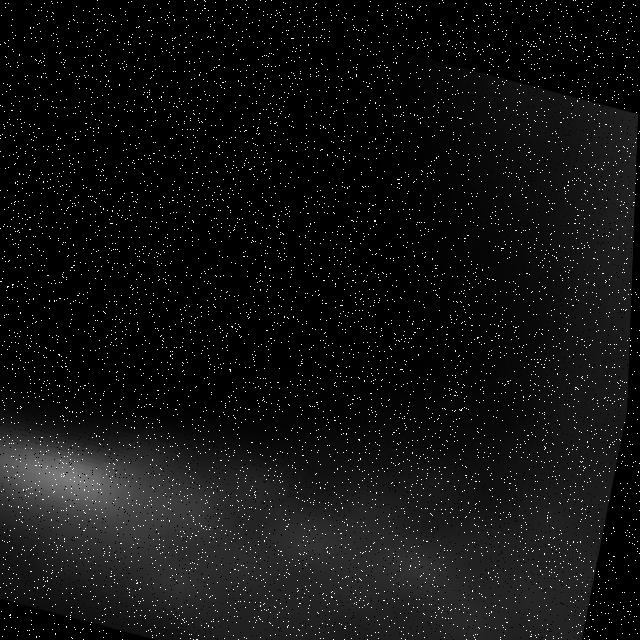person: (1, 329, 589, 640)
